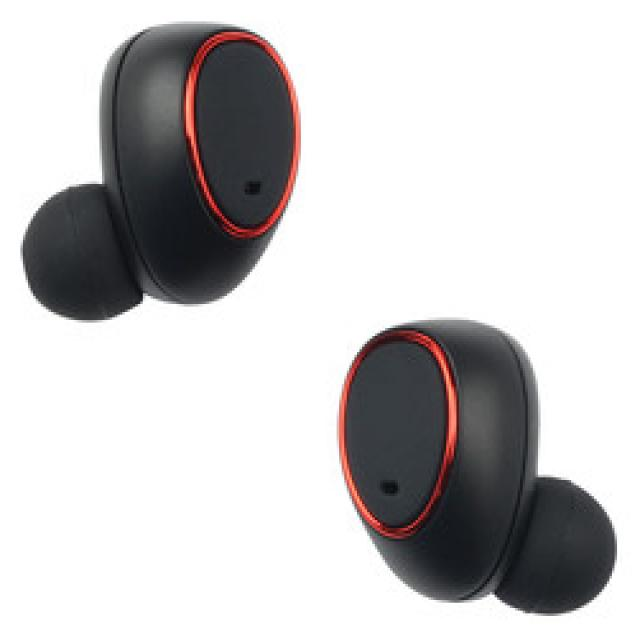airpods: (330, 308, 622, 620), (18, 14, 304, 330)
